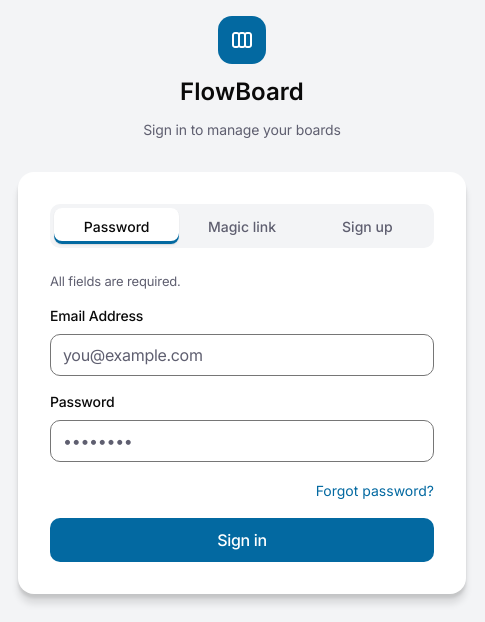
Scenario: LoginForm accessibility › declares the purpose of each input for autofill
Click the tab "Sign up".
click(367, 226)  # box [305, 208, 430, 244]
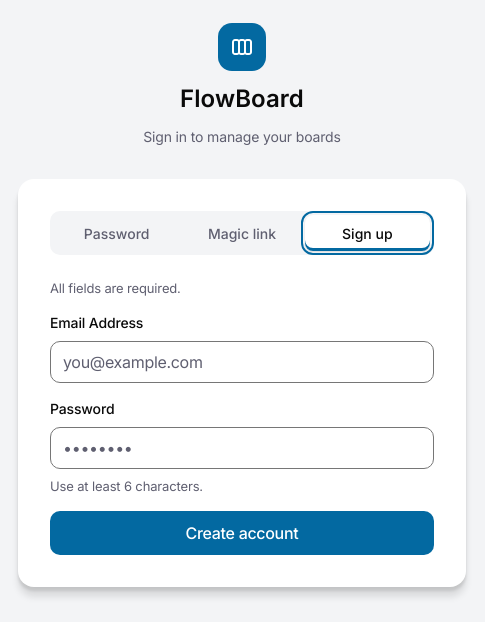
Expected: the text "Use at least 6 characters." is shown, [50, 478, 203, 494]
